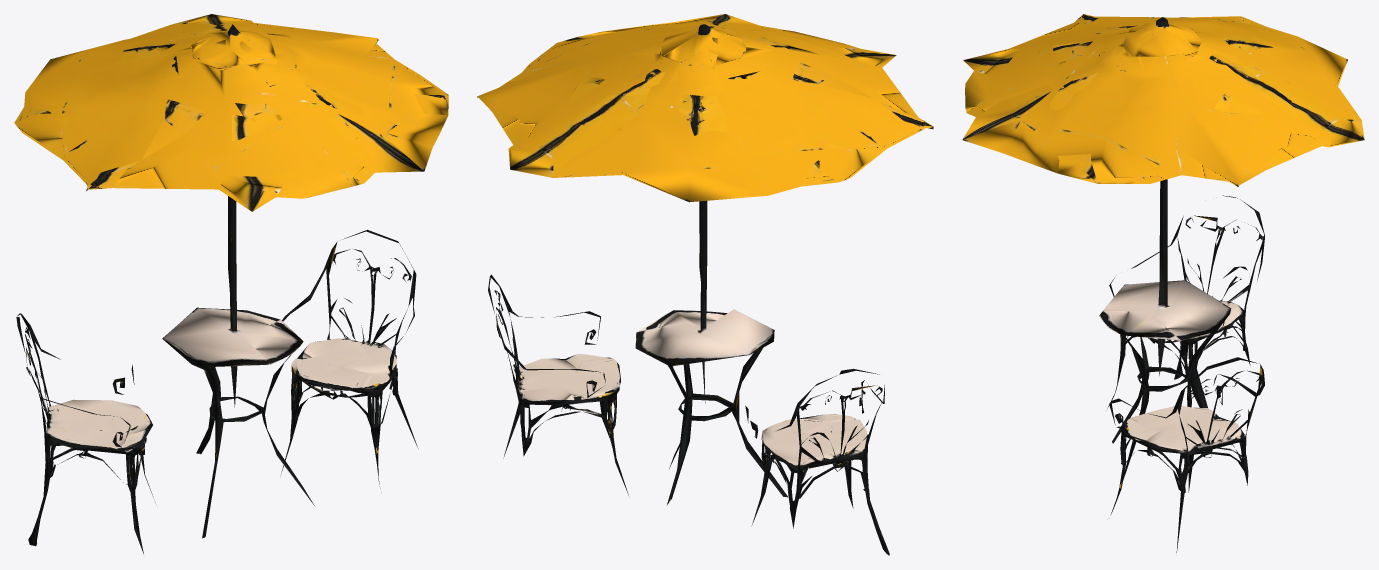
Rendered from bistro-set-lite.glb.
3 renders of one model, left to right at view 1: azimuth 30°, elevation 25°; view 2: azimuth 150°, elevation 25°; view 3: azimuth 270°, elevation 25°, orthographic. The views are drawn at different scales.
Size of the model in its own units: 1.61 by 1.9 by 1.54.
1 material, 1 textured.
